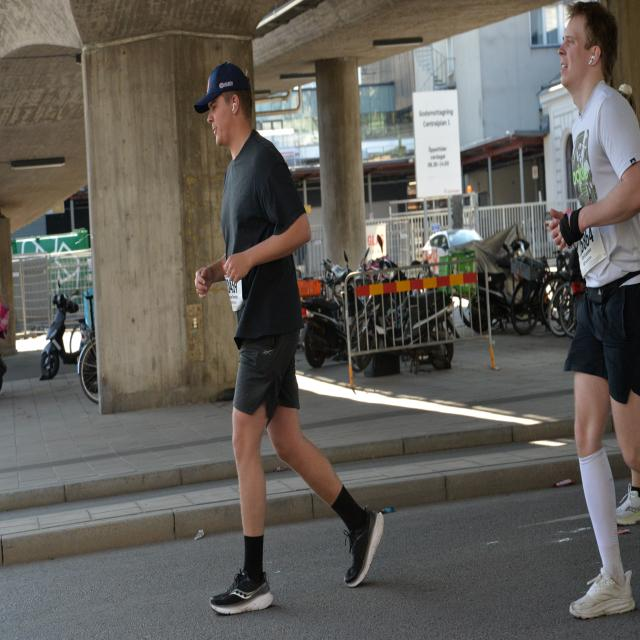runner-detect: (178, 64, 385, 628), (548, 7, 634, 620)
